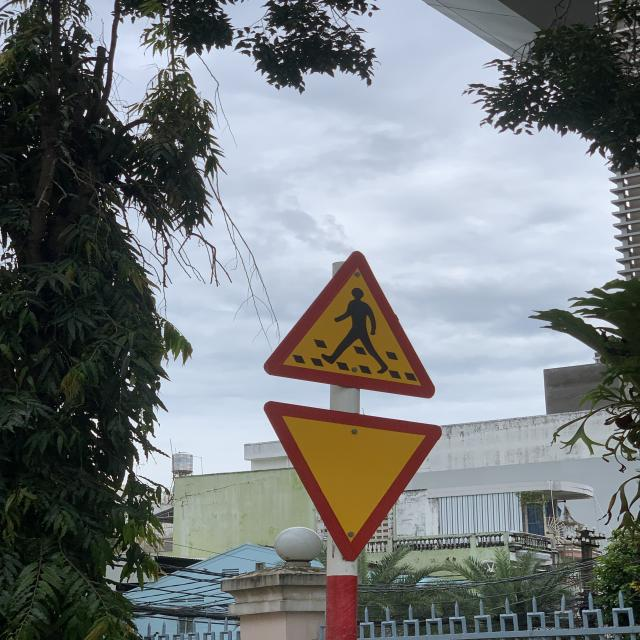Duong_Nguoi_Di_Bo_Sang_Ngang: (267, 249, 434, 397)
Gioi_Han_Toc_Do_25: (267, 401, 440, 559)
